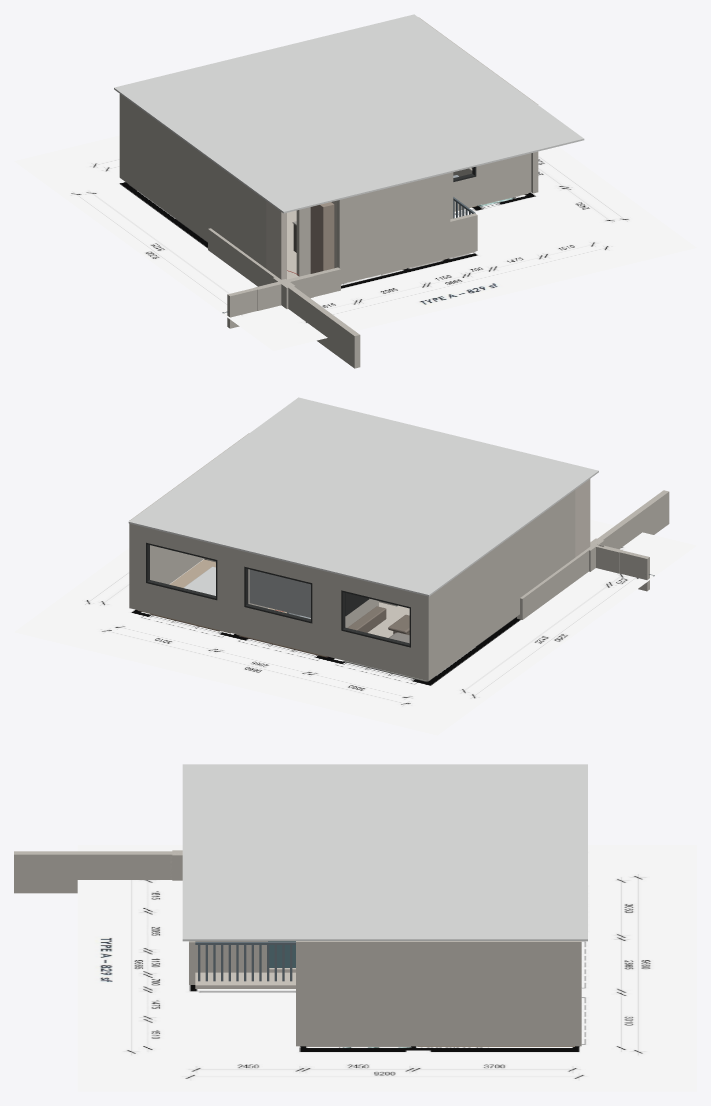
The model's file is serina-unit.glb.
3 renders of one model, top to bottom at view 1: azimuth 30°, elevation 25°; view 2: azimuth 150°, elevation 25°; view 3: azimuth 270°, elevation 25°, orthographic. The views are drawn at different scales.
Visible parts, largest first — view 1: Render ceiling 2700, SOURCE PLAN - CALIBRATED REFERENCE, Outer west above foyer full 2700 assumed, South facade kitchen through yard full 2700 assumed, Outer east upper, Outer west above foyer, Foyer full-height shoe cabinet, Foyer left return beside main door full 2700 assumed, South facade kitchen through yard, AC ledge south parapet full model, South facade of bath and bedroom block full 2700 assumed.003, Main entry wall and right pier full 2700 assumed.001 (+4 smaller); view 2: Render ceiling 2700, SOURCE PLAN - CALIBRATED REFERENCE, Outer west above foyer full 2700 assumed, Outer west above foyer, North facade full 2700 assumed.001, North facade full 2700 assumed.002, Master main window full sill wall assumed, B2 sunscreen blind fabric, Living main window full sill wall assumed, B2 main window full sill wall assumed, North facade full 2700 assumed, Outer east upper full 2700 assumed (+11 smaller); view 3: SOURCE PLAN - CALIBRATED REFERENCE, Render ceiling 2700, Outer east upper full 2700 assumed, Outer east upper, Outer west above foyer, AC ledge clear 700, Yard ledge dividing wall full model, B3 Bath1 divider, South facade of bath and bedroom block full 2700 assumed.003, North facade full 2700 assumed.003, Yard ledge glass door panel, Yard ledge fixed window sill wall full (+1 smaller).
Part boxes in pixels (left/top/right/bottom): Render ceiling 2700: left=114, top=14, right=584, bottom=213; SOURCE PLAN - CALIBRATED REFERENCE: left=14, top=135, right=696, bottom=350; Outer west above foyer full 2700 assumed: left=119, top=94, right=266, bottom=267; South facade kitchen through yard full 2700 assumed: left=337, top=173, right=450, bottom=283; Outer east upper: left=221, top=240, right=344, bottom=358; Outer west above foyer: left=208, top=228, right=360, bottom=368; Foyer full-height shoe cabinet: left=310, top=202, right=334, bottom=273; Foyer left return beside main door full 2700 assumed: left=266, top=201, right=286, bottom=279; South facade kitchen through yard: left=227, top=267, right=340, bottom=328; AC ledge south parapet full model: left=450, top=213, right=477, bottom=257; South facade of bath and bedroom block full 2700 assumed.003: left=505, top=101, right=536, bottom=198; Main entry wall and right pier full 2700 assumed.001: left=296, top=207, right=310, bottom=276; Render ceiling 2700: left=128, top=397, right=598, bottom=596; SOURCE PLAN - CALIBRATED REFERENCE: left=14, top=519, right=696, bottom=735; Outer west above foyer full 2700 assumed: left=423, top=490, right=575, bottom=678; Outer west above foyer: left=517, top=490, right=669, bottom=619; North facade full 2700 assumed.001: left=312, top=568, right=341, bottom=659; North facade full 2700 assumed.002: left=217, top=545, right=244, bottom=635; Master main window full sill wall assumed: left=146, top=583, right=217, bottom=629; B2 sunscreen blind fabric: left=249, top=569, right=310, bottom=617; Living main window full sill wall assumed: left=341, top=630, right=410, bottom=676; B2 main window full sill wall assumed: left=244, top=607, right=312, bottom=652; North facade full 2700 assumed: left=411, top=592, right=431, bottom=680; Outer east upper full 2700 assumed: left=131, top=433, right=249, bottom=608; SOURCE PLAN - CALIBRATED REFERENCE: left=77, top=845, right=696, bottom=1091; Render ceiling 2700: left=182, top=764, right=587, bottom=941; Outer east upper full 2700 assumed: left=296, top=941, right=581, bottom=1046; Outer east upper: left=46, top=851, right=171, bottom=893; Outer west above foyer: left=14, top=851, right=177, bottom=893; AC ledge clear 700: left=195, top=972, right=295, bottom=988; Yard ledge dividing wall full model: left=195, top=941, right=244, bottom=972; B3 Bath1 divider: left=136, top=851, right=182, bottom=879; South facade of bath and bedroom block full 2700 assumed.003: left=300, top=941, right=306, bottom=1046; North facade full 2700 assumed.003: left=575, top=942, right=581, bottom=1046; Yard ledge glass door panel: left=269, top=941, right=295, bottom=967; Yard ledge fixed window sill wall full: left=244, top=941, right=267, bottom=972.
Size of the model in its own units: 13.81 by 3.24 by 16.01.
Materials: 32 (1 with a texture image).
